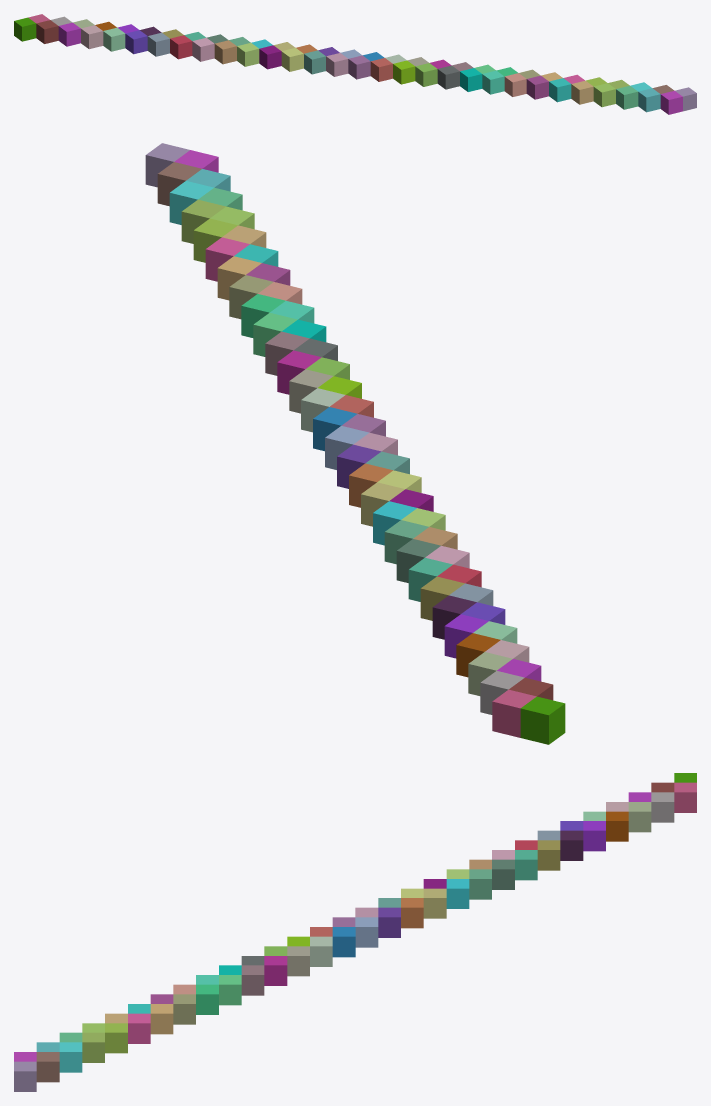
3 renders of one model, top to bottom at view 1: azimuth 30°, elevation 25°; view 2: azimuth 150°, elevation 25°; view 3: azimuth 270°, elevation 25°, orthographic. The views are drawn at different scales.
Parts seen in each view (by area): view 1: node_voxel_8484bab9-8b7b-4760-bf94-3620b50500c9, node_voxel_796179ff-1fe0-4e41-a64d-7b75ee0db99a, node_voxel_7930dfc5-75b3-47d2-a2d6-299e67cc99df, node_voxel_9d99a2db-e36e-4518-9173-a33ebf2cda05, node_voxel_741f19e8-e891-46f0-af00-5d6193a1fbdb, node_voxel_cb817b0a-392c-4693-aa19-f5909390f03d, node_voxel_ea59cf26-4d50-4145-b0be-87911e1260c2, node_voxel_cca116b9-0b8d-4707-8803-c1b1d2a96838, node_voxel_9760df4b-4f9e-4b02-abe1-84c32568a9c6, node_voxel_9166c787-4d41-4d0a-a40c-bd248400a0bd, node_voxel_237dfccc-95b8-4719-a371-992e0276a26e, node_voxel_e58c31f4-b310-498a-953e-0dec3030e1d8 (+19 smaller); view 2: node_voxel_2fc3aa30-8d19-46b1-8d70-b2045d5d9f51, node_voxel_deafa345-5520-4256-87e9-75a8aef7dfca, node_voxel_9b2a6fa4-cdfa-4aa3-94a6-8e523167785e, node_voxel_cce128f7-0ebe-4e10-ac53-78a27fde47a3, node_voxel_0db410fe-6c68-4677-a170-1f935dea11c6, node_voxel_63c84a5e-ce9f-4f4e-94e6-c3f13bbb72a1, node_voxel_a623a0a9-ed64-47cb-bd07-c252e7160633, node_voxel_85b7c056-48cf-47b7-a16d-656eedabaae9, node_voxel_f53578e6-6697-4c31-96c9-de062ccf4992, node_voxel_5effbe3f-3f43-43a4-af86-a0e1d419afc8, node_voxel_7f0dee5e-4e5a-4abe-989d-0d7028819fca, node_voxel_44926e6c-8874-4128-8917-a24bb66e2d0e (+19 smaller); view 3: node_voxel_eacac1e7-b4df-45b8-8504-0c1a3f543a83, node_voxel_d4b50c46-4a9c-4d7f-8460-8b5313123192, node_voxel_755dbf07-f35b-42ac-88e2-e52566ade4fc, node_voxel_85b7c056-48cf-47b7-a16d-656eedabaae9, node_voxel_f53578e6-6697-4c31-96c9-de062ccf4992, node_voxel_0db410fe-6c68-4677-a170-1f935dea11c6, node_voxel_d1a3c6b0-36f4-497f-bde9-dc119f5c329f, node_voxel_d3f12af1-ffba-44e3-81fe-8729c225d0c5, node_voxel_76608551-d73d-45dc-a669-bad8a41a6588, node_voxel_44926e6c-8874-4128-8917-a24bb66e2d0e, node_voxel_f9aca0b3-68b0-40bf-ab84-0b5b31ce9055, node_voxel_d1ba3963-1518-4eb6-accc-a4b3516e3f78 (+18 smaller).
Part boxes in pixels (<box>): node_voxel_8484bab9-8b7b-4760-bf94-3620b50500c9: <box>259,45,281,69</box>; node_voxel_796179ff-1fe0-4e41-a64d-7b75ee0db99a: <box>192,37,214,61</box>; node_voxel_7930dfc5-75b3-47d2-a2d6-299e67cc99df: <box>482,70,504,94</box>; node_voxel_9d99a2db-e36e-4518-9173-a33ebf2cda05: <box>437,65,459,89</box>; node_voxel_741f19e8-e891-46f0-af00-5d6193a1fbdb: <box>147,32,169,56</box>; node_voxel_cb817b0a-392c-4693-aa19-f5909390f03d: <box>393,60,415,84</box>; node_voxel_ea59cf26-4d50-4145-b0be-87911e1260c2: <box>549,78,571,102</box>; node_voxel_cca116b9-0b8d-4707-8803-c1b1d2a96838: <box>81,25,103,49</box>; node_voxel_9760df4b-4f9e-4b02-abe1-84c32568a9c6: <box>638,88,660,112</box>; node_voxel_9166c787-4d41-4d0a-a40c-bd248400a0bd: <box>526,75,548,99</box>; node_voxel_237dfccc-95b8-4719-a371-992e0276a26e: <box>660,90,682,114</box>; node_voxel_e58c31f4-b310-498a-953e-0dec3030e1d8: <box>571,80,593,104</box>; node_voxel_2fc3aa30-8d19-46b1-8d70-b2045d5d9f51: <box>520,696,565,744</box>; node_voxel_deafa345-5520-4256-87e9-75a8aef7dfca: <box>492,689,536,737</box>; node_voxel_9b2a6fa4-cdfa-4aa3-94a6-8e523167785e: <box>145,143,189,187</box>; node_voxel_cce128f7-0ebe-4e10-ac53-78a27fde47a3: <box>384,520,428,564</box>; node_voxel_0db410fe-6c68-4677-a170-1f935dea11c6: <box>157,162,201,206</box>; node_voxel_63c84a5e-ce9f-4f4e-94e6-c3f13bbb72a1: <box>193,218,237,262</box>; node_voxel_a623a0a9-ed64-47cb-bd07-c252e7160633: <box>444,614,488,658</box>; node_voxel_85b7c056-48cf-47b7-a16d-656eedabaae9: <box>420,576,464,620</box>; node_voxel_f53578e6-6697-4c31-96c9-de062ccf4992: <box>169,181,213,224</box>; node_voxel_5effbe3f-3f43-43a4-af86-a0e1d419afc8: <box>408,557,452,601</box>; node_voxel_7f0dee5e-4e5a-4abe-989d-0d7028819fca: <box>396,539,440,582</box>; node_voxel_44926e6c-8874-4128-8917-a24bb66e2d0e: <box>217,256,261,300</box>; node_voxel_eacac1e7-b4df-45b8-8504-0c1a3f543a83: <box>651,792,674,822</box>; node_voxel_d4b50c46-4a9c-4d7f-8460-8b5313123192: <box>355,917,378,947</box>; node_voxel_755dbf07-f35b-42ac-88e2-e52566ade4fc: <box>241,965,264,995</box>; node_voxel_85b7c056-48cf-47b7-a16d-656eedabaae9: <box>537,840,560,870</box>; node_voxel_f53578e6-6697-4c31-96c9-de062ccf4992: <box>59,1042,82,1072</box>; node_voxel_0db410fe-6c68-4677-a170-1f935dea11c6: <box>36,1052,59,1082</box>; node_voxel_d1a3c6b0-36f4-497f-bde9-dc119f5c329f: <box>560,830,583,860</box>; node_voxel_d3f12af1-ffba-44e3-81fe-8729c225d0c5: <box>332,927,355,957</box>; node_voxel_76608551-d73d-45dc-a669-bad8a41a6588: <box>423,888,446,918</box>; node_voxel_44926e6c-8874-4128-8917-a24bb66e2d0e: <box>150,1004,173,1034</box>; node_voxel_f9aca0b3-68b0-40bf-ab84-0b5b31ce9055: <box>628,802,651,832</box>; node_voxel_d1ba3963-1518-4eb6-accc-a4b3516e3f78: <box>446,879,469,908</box>.
Bounding box in the file's own units: 31 × 1 × 30.
